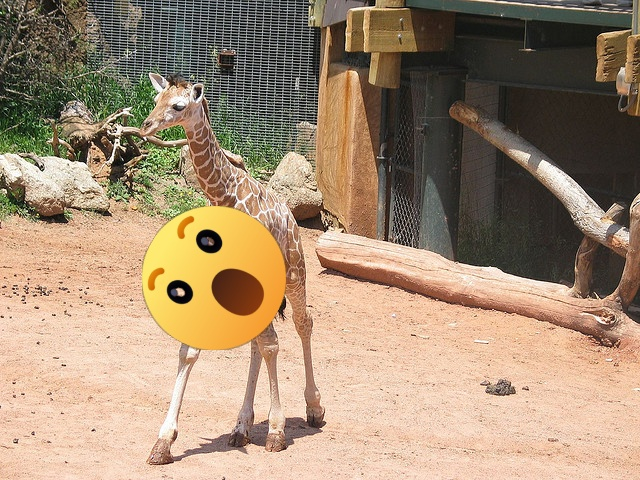wow: (142, 206, 286, 350)
